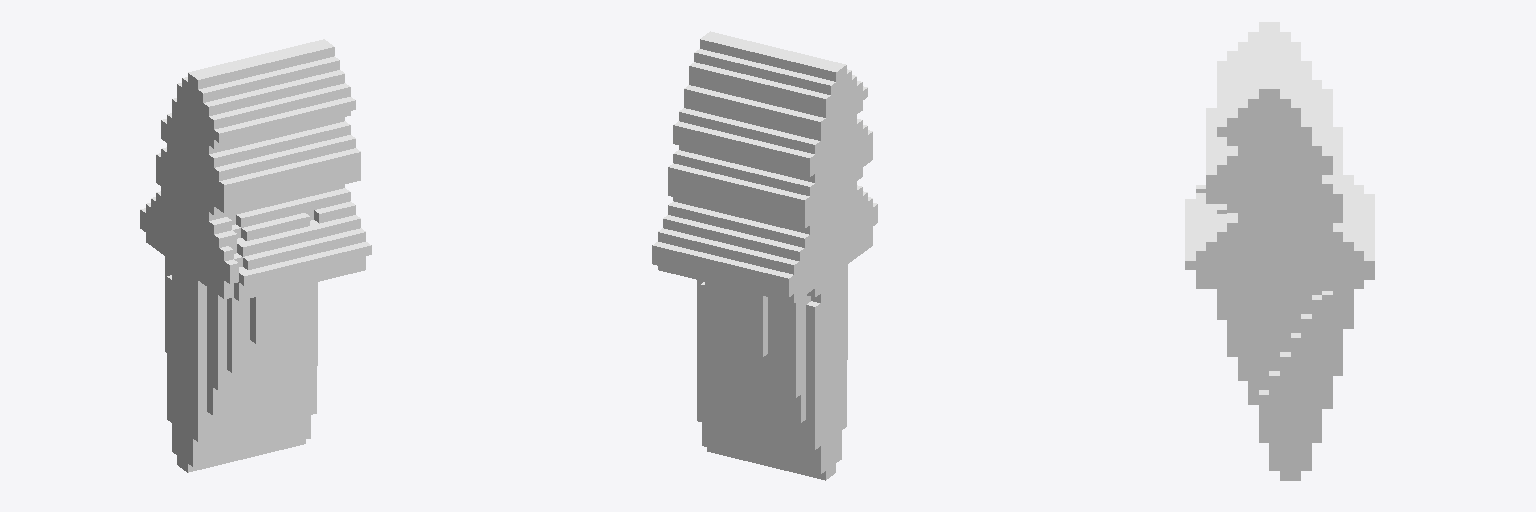
File: Eruption-47.obj
3 views of the same model, side by side, from view 1: azimuth 30°, elevation 25°; view 2: azimuth 150°, elevation 25°; view 3: azimuth 270°, elevation 25° (orthographic).
Visible parts, largest first — view 1: object 1; view 2: object 1; view 3: object 1.
Boxes of the visible parts, box(x1,y1,x2,y2) form: object 1: box(140, 39, 371, 472); object 1: box(652, 31, 877, 480); object 1: box(1185, 22, 1374, 480).
Size of the model in its own units: 1.5 by 4.2 by 1.8.